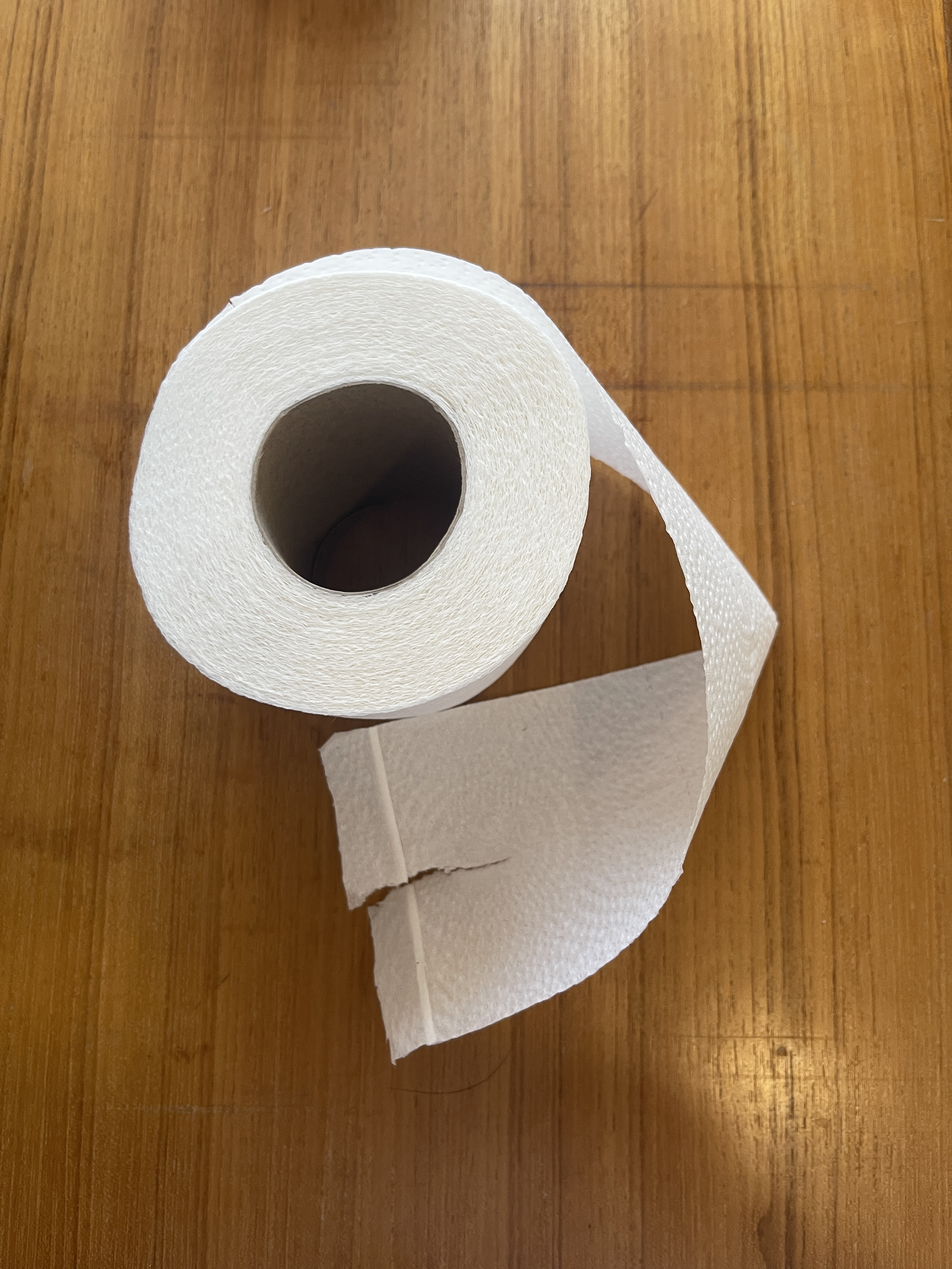paper: (121, 239, 783, 1069)
